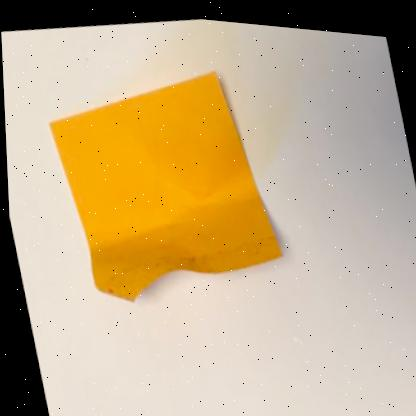Paper: (48, 67, 278, 297)
